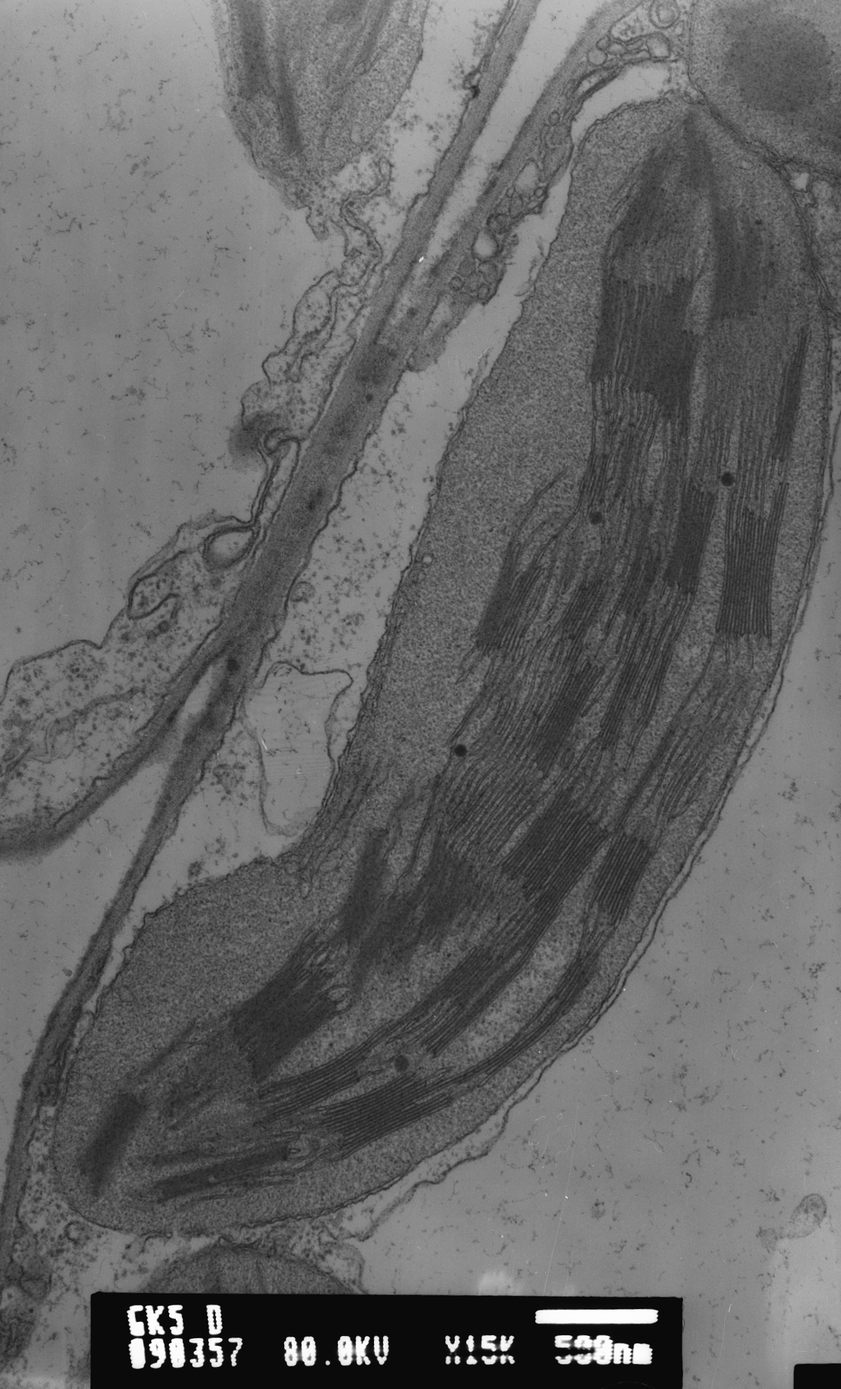granum: (253, 1015, 403, 1129), (222, 944, 341, 1087), (495, 785, 616, 903), (314, 1067, 456, 1160), (626, 275, 704, 441), (713, 480, 792, 639), (417, 954, 532, 1058), (594, 618, 680, 751), (522, 655, 606, 778), (409, 840, 497, 954), (467, 538, 552, 656), (401, 944, 512, 1025), (150, 1142, 296, 1203), (449, 1010, 564, 1086), (344, 890, 416, 1004), (580, 828, 659, 931), (75, 1094, 148, 1194), (660, 481, 720, 599), (334, 822, 392, 944), (612, 148, 679, 249), (766, 326, 814, 466), (620, 713, 686, 809), (551, 568, 615, 666), (708, 207, 762, 322), (612, 536, 665, 634), (587, 273, 631, 383), (543, 944, 604, 1017), (230, 0, 273, 98), (512, 891, 569, 961), (464, 664, 517, 725), (271, 78, 306, 158), (577, 446, 616, 505), (323, 0, 374, 25)
